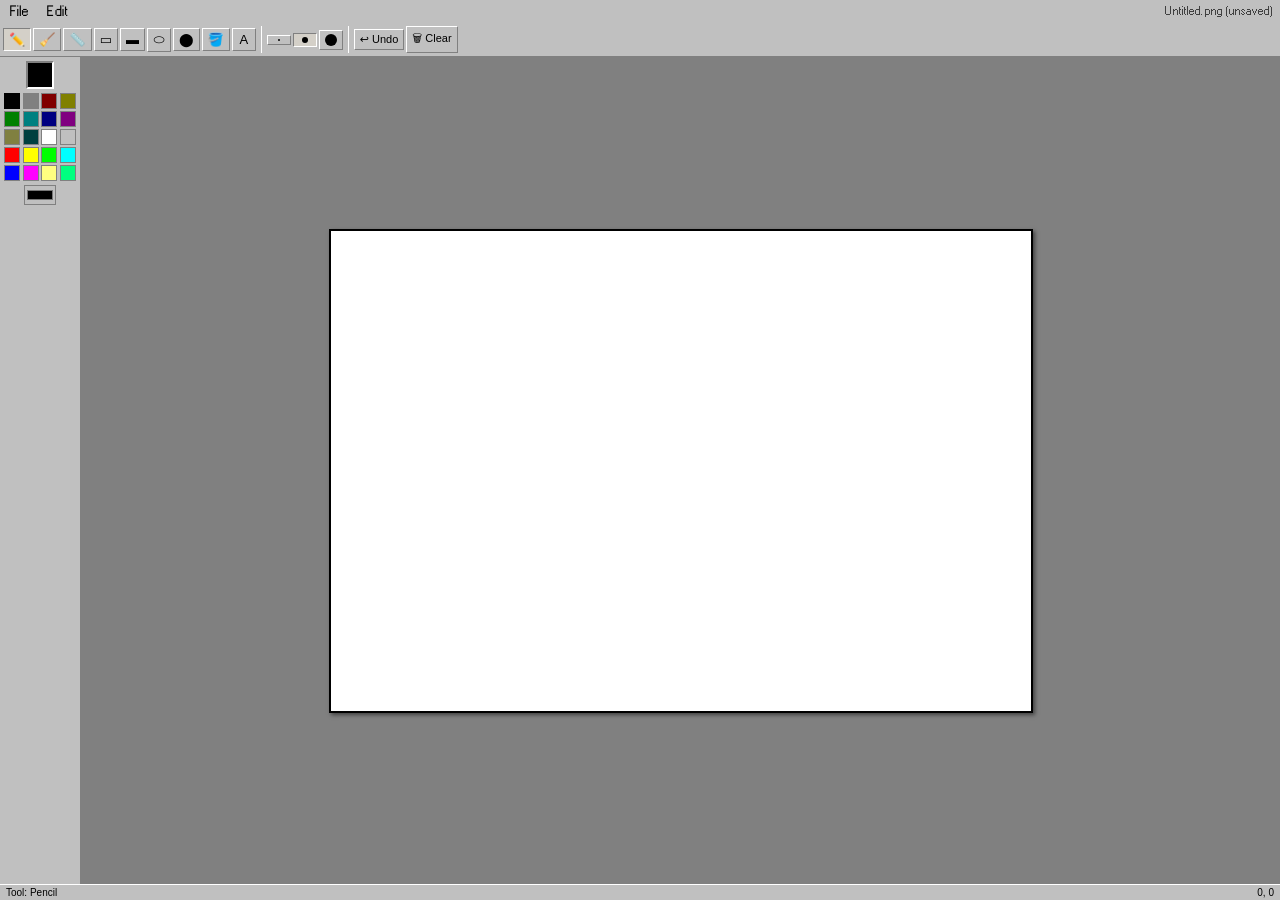
Paint files › Save As stores the picture as a .png in My Documents
The width and height of the screenshot is (1280, 900).
Click the menu item "File" at (18, 11), box [0,1,37,21]
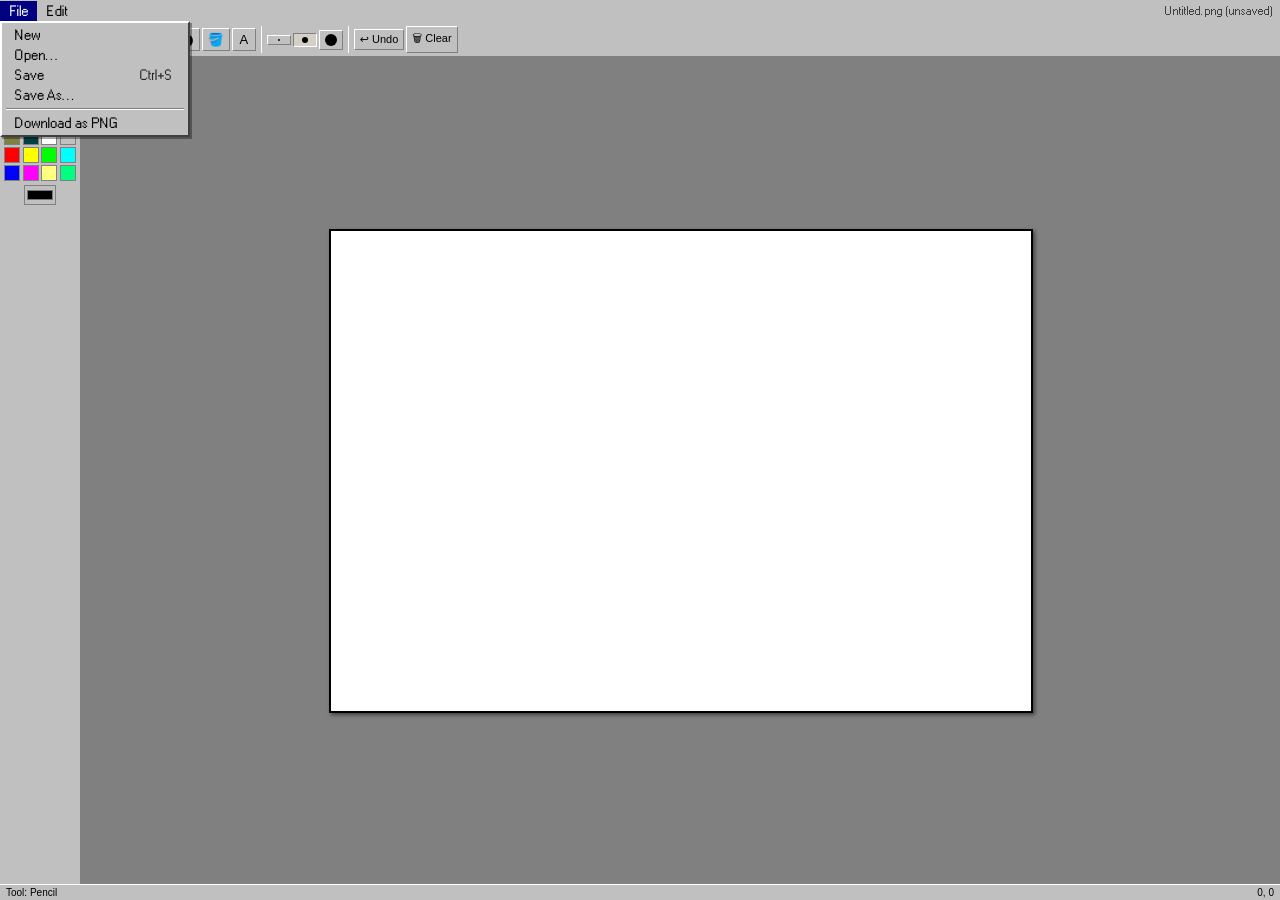
Click the menu item "Save As..." at (95, 95), box [4,85,186,105]
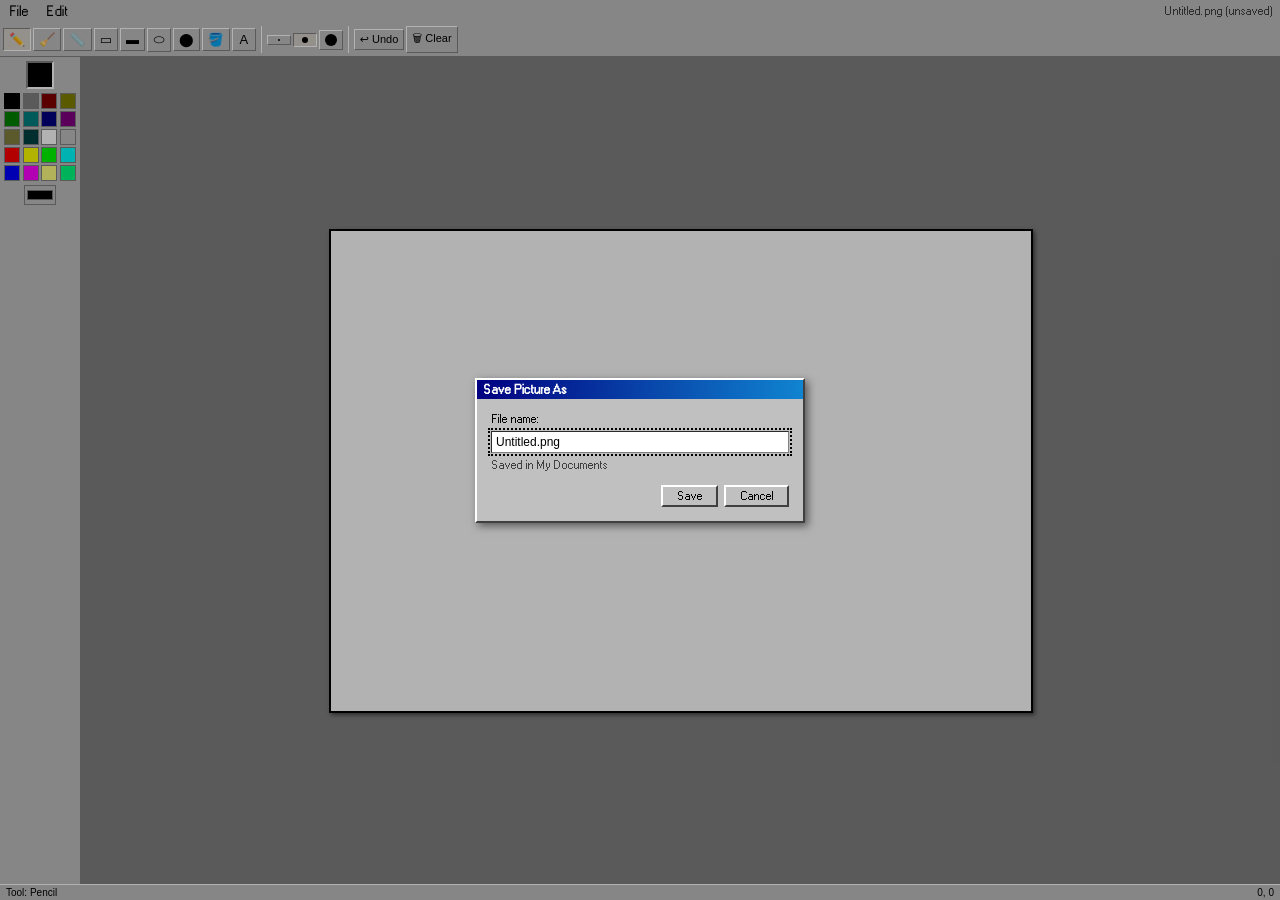
Replace the text in the field with id "fd-name" with "my art" at (640, 442), box [491,430,789,452]
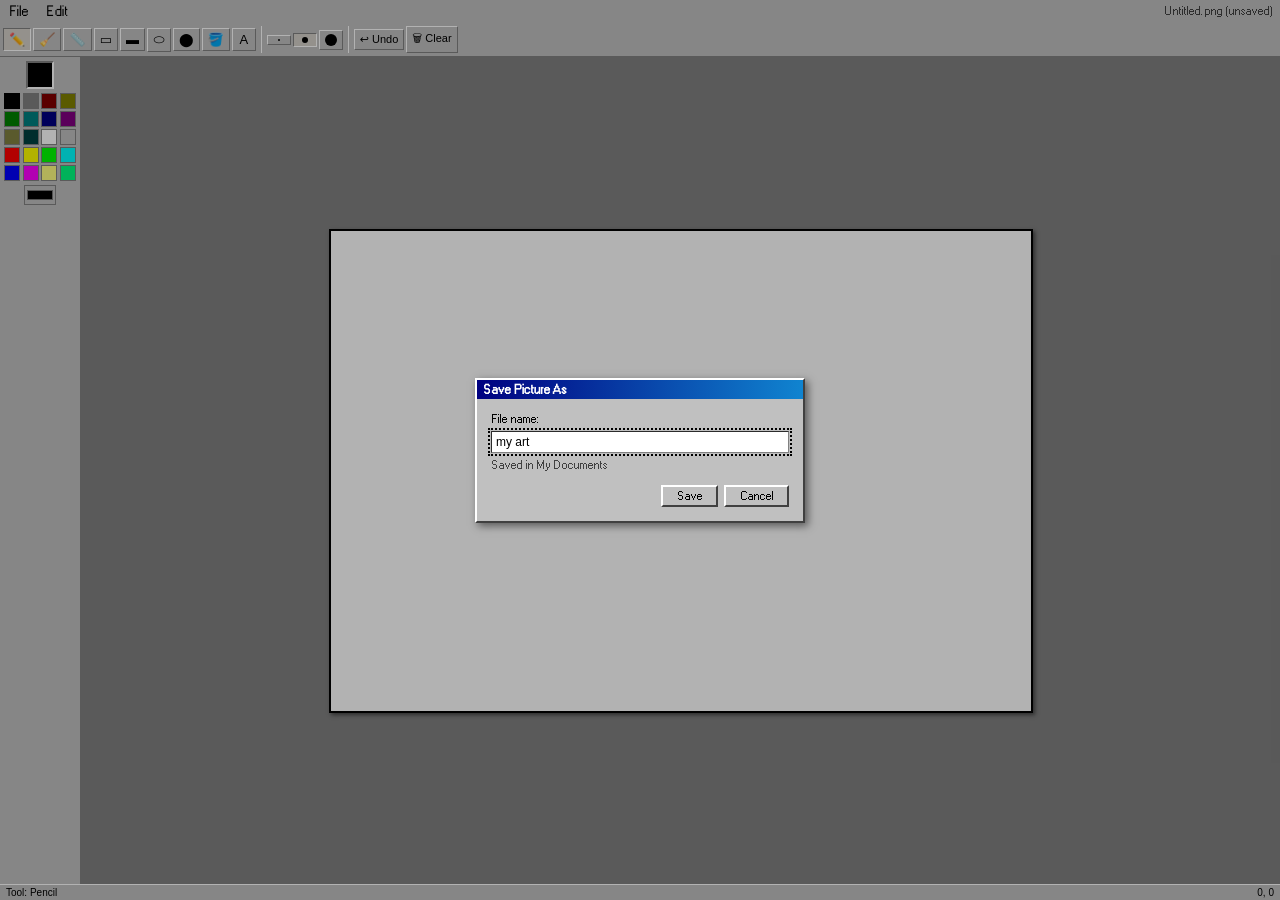
Click the button "Save" at (690, 496), box [661,484,718,506]
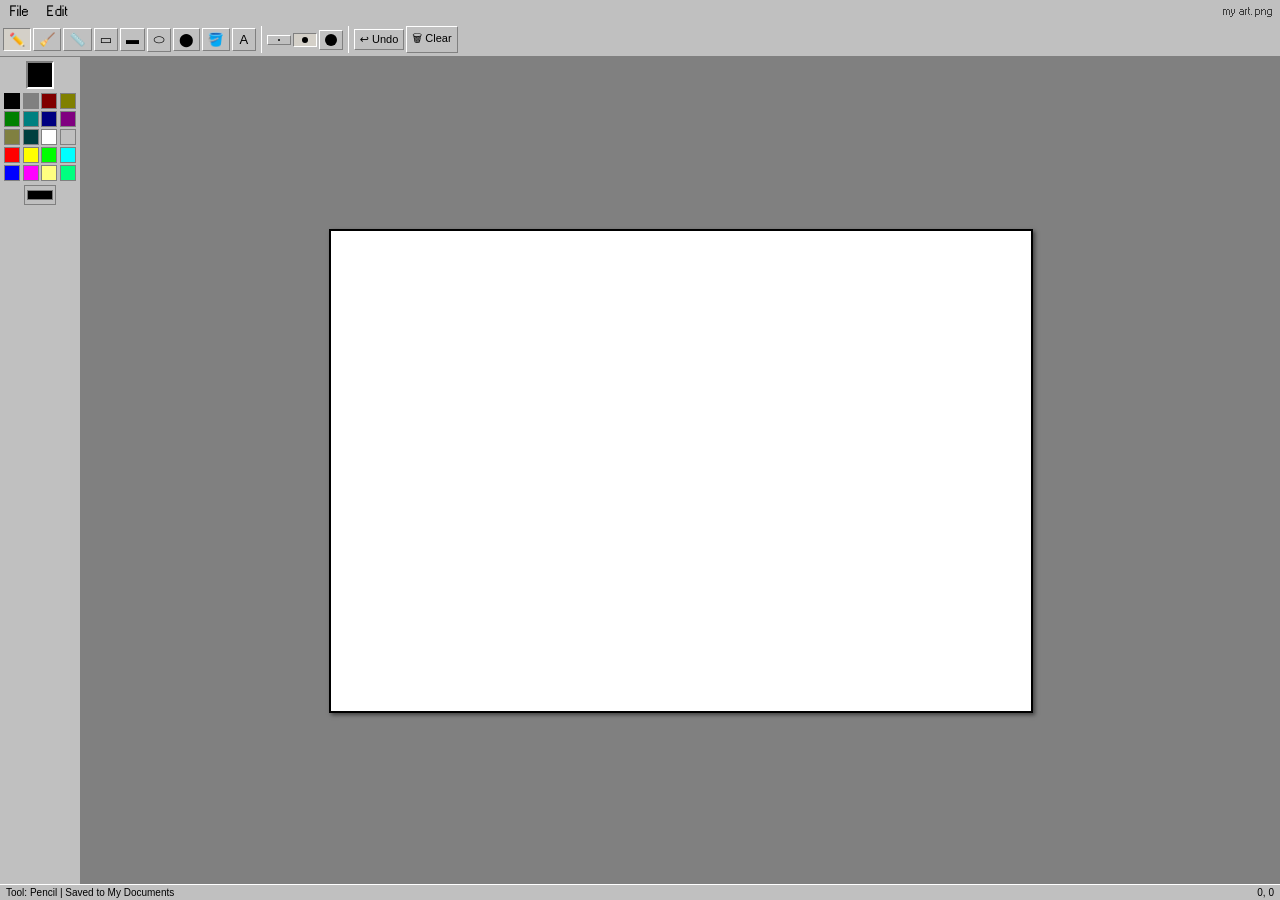
Result: the text "Tool: Pencil | Saved to My Documents" is shown at [6,887,174,898]
